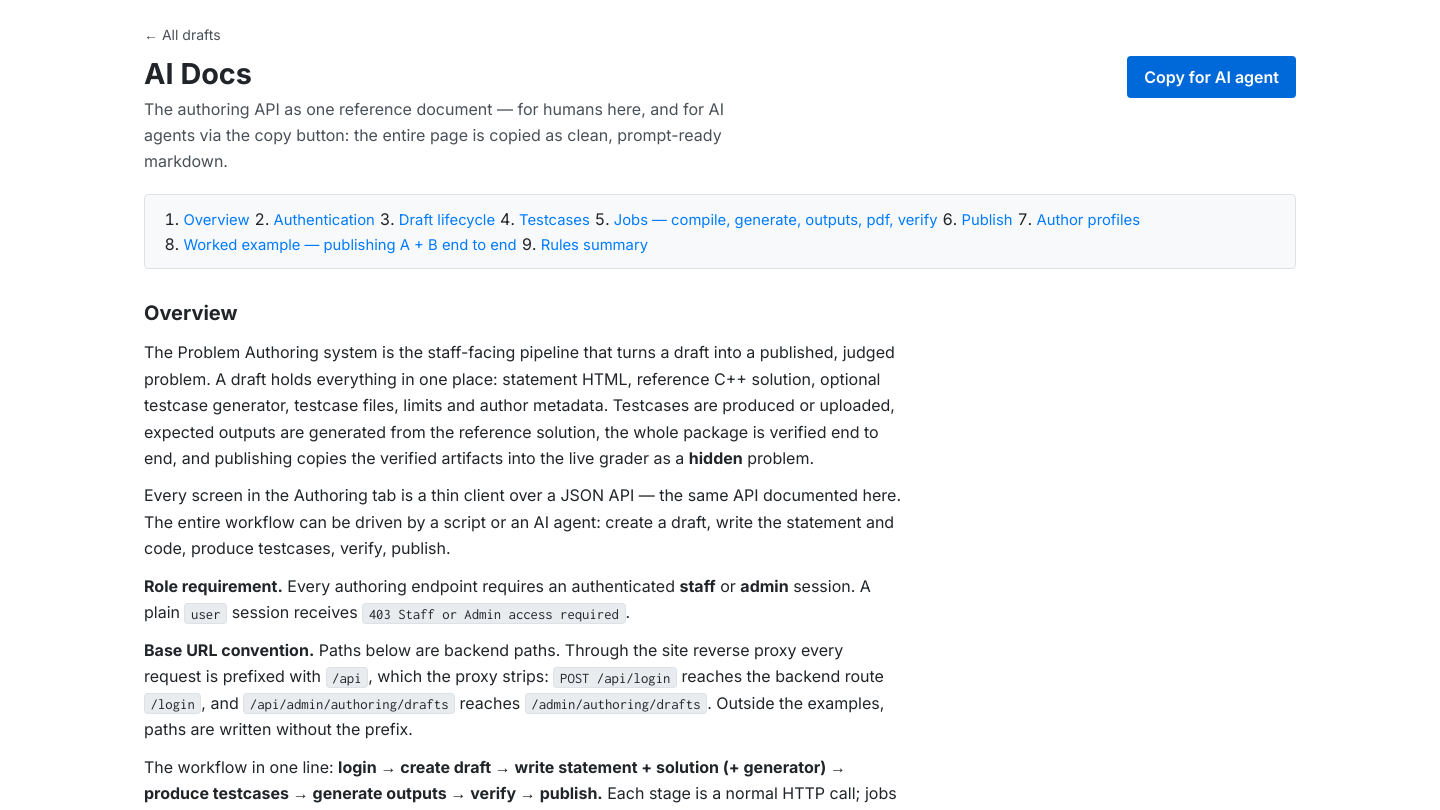
Test: a failed clipboard copy reports the failure instead of claiming success
The image size is (1440, 810).
Click the button "Copy for AI agent" at point(1212, 77), box [1127,56,1296,98]
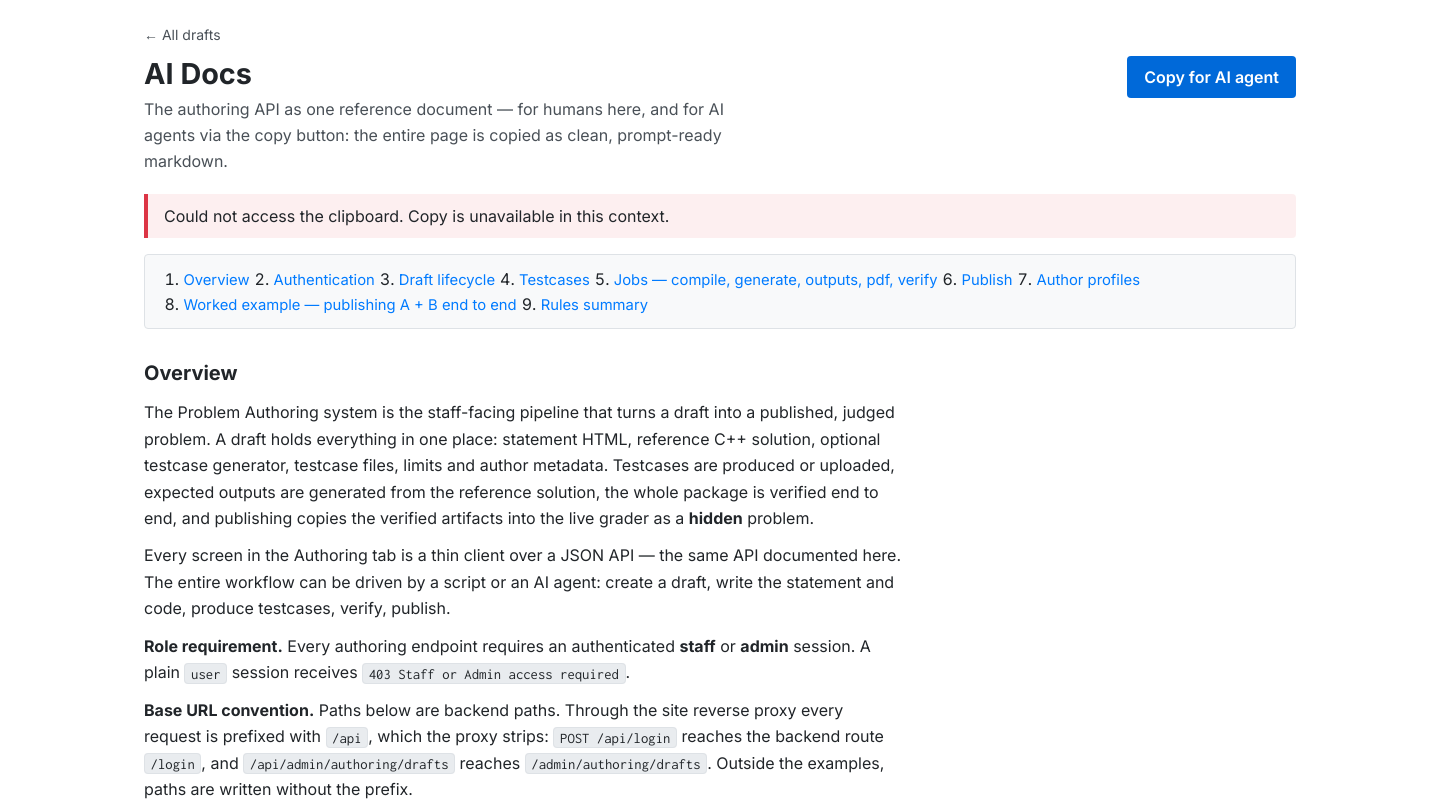
expect the message "Could not access the clipboard. Copy is unavailable in this context." is shown: met, box [144,194,1296,238]
